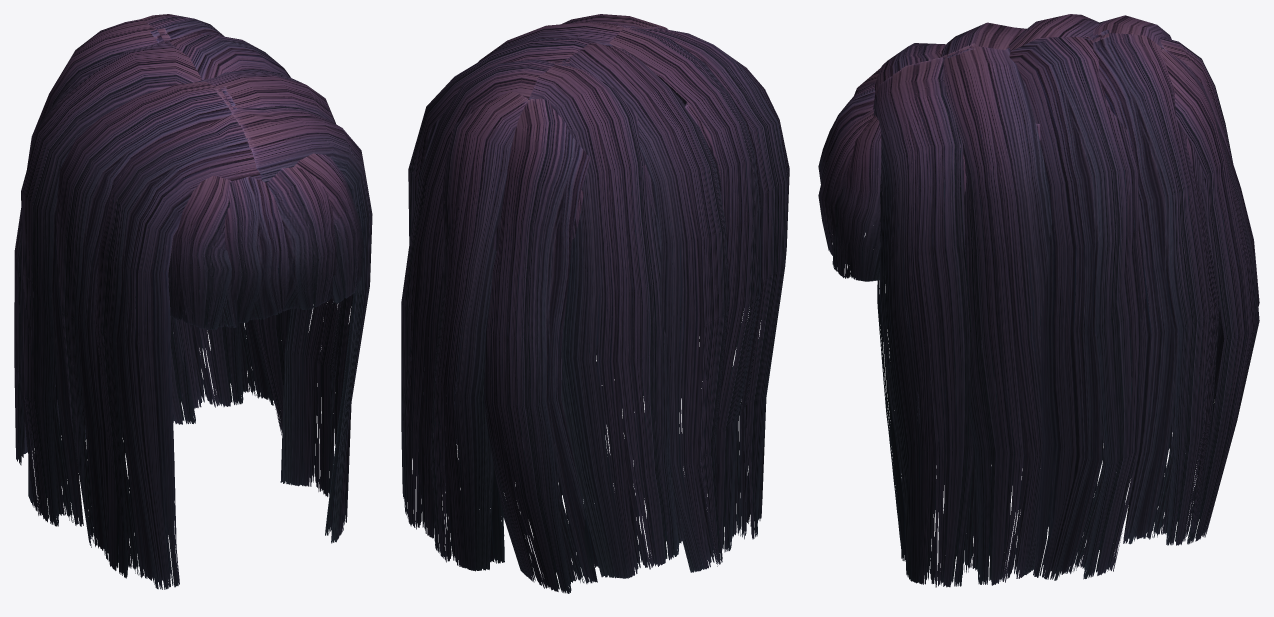
Rendered from mh_cortu_straight_bangs.glb.
The picture shows the model from 3 angles, left to right: view 1: azimuth 30°, elevation 25°; view 2: azimuth 150°, elevation 25°; view 3: azimuth 270°, elevation 25°; orthographic projection. The views are drawn at different scales.
Visible parts, largest first — view 1: mh_cortu_straight_bangs; view 2: mh_cortu_straight_bangs; view 3: mh_cortu_straight_bangs.
Boxes of the visible parts, x1,y1,x2,y2 form: mh_cortu_straight_bangs: [14, 14, 372, 589]; mh_cortu_straight_bangs: [401, 14, 789, 593]; mh_cortu_straight_bangs: [818, 14, 1259, 587].
Bounding box in the file's own units: 0.1918 × 0.3179 × 0.2432.
1 material, 1 textured.
